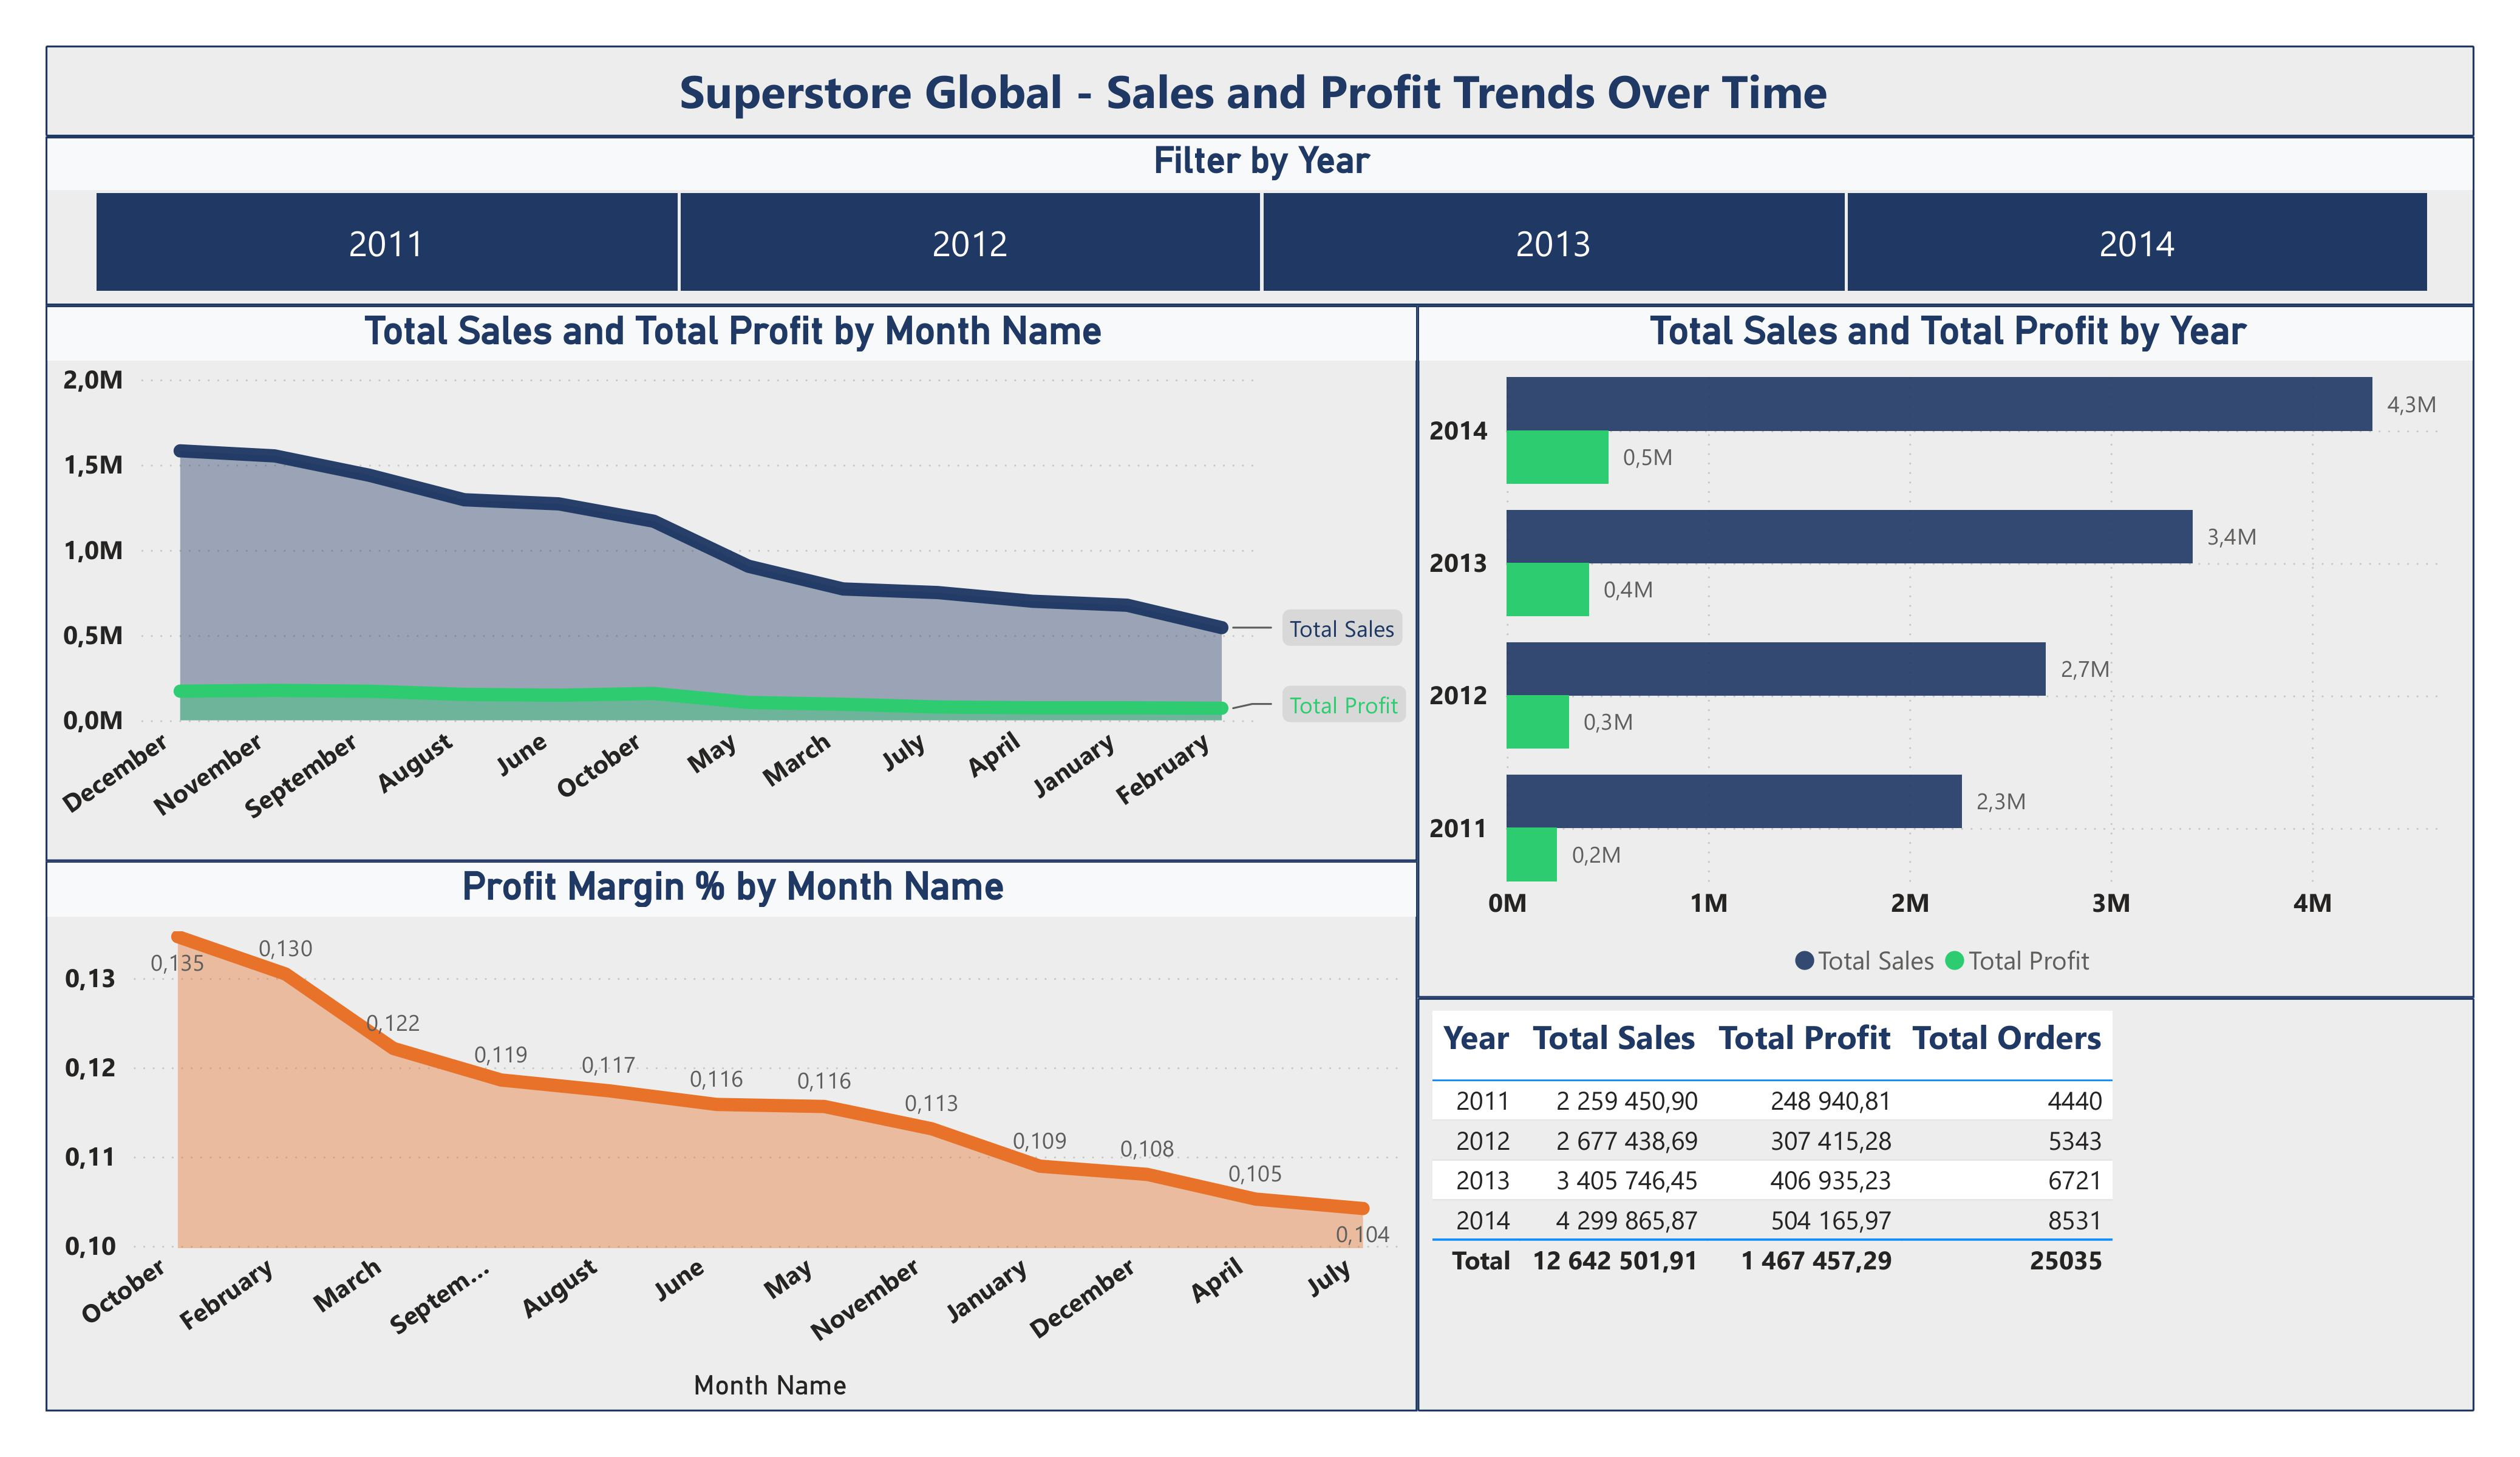

The page's visual inventory and layout, read from the dashboard file:
{"tool":"powerbi","page":{"name":"Time Trends","canvas":[1280,720],"ordinal":4},"visuals":[{"type":"textbox","box":[0,0,1280,48.3],"z":0},{"type":"lineChart","fields":{"Category":["Sheet1.Month Name"],"Y":["Sheet1.Total Sales","Sheet1.Total Profit"]},"box":[0,136.7,723.3,293.3],"z":1000},{"type":"clusteredBarChart","fields":{"Category":["Sheet1.Year"],"Y":["Sheet1.Total Sales","Sheet1.Total Profit"]},"box":[723.3,136.7,556.7,365],"z":2000},{"type":"areaChart","fields":{"Y":["Sheet1.Profit Margin %"],"Category":["Sheet1.Month Name"]},"box":[0,430,723.3,290],"z":3000},{"type":"tableEx","fields":{"Values":["Sheet1.Year","Sheet1.Total Sales","Sheet1.Total Profit","Sheet1.Total Orders"]},"box":[723.3,501.7,556.7,218.3],"z":4000},{"type":"slicer","title":"Filter by Year","fields":{"Values":["Sheet1.Year"]},"box":[0,48.3,1280,88.3],"z":5000}]}

Visuals, with their boxes on the page's 1280x720 design canvas (x1, y1, x2, y2). These are canvas units, not pixel positions in the 2520x1457 screenshot, which may show the page scaled, cropped or inside an application window:
textbox: 0,0,1280,48
lineChart - Sheet1.Month Name x Sheet1.Total Sales: 0,137,723,430
clusteredBarChart - Sheet1.Year x Sheet1.Total Sales: 723,137,1280,502
areaChart - Sheet1.Profit Margin % x Sheet1.Month Name: 0,430,723,720
tableEx - Sheet1.Year x Sheet1.Total Sales: 723,502,1280,720
"Filter by Year" slicer: 0,48,1280,137
